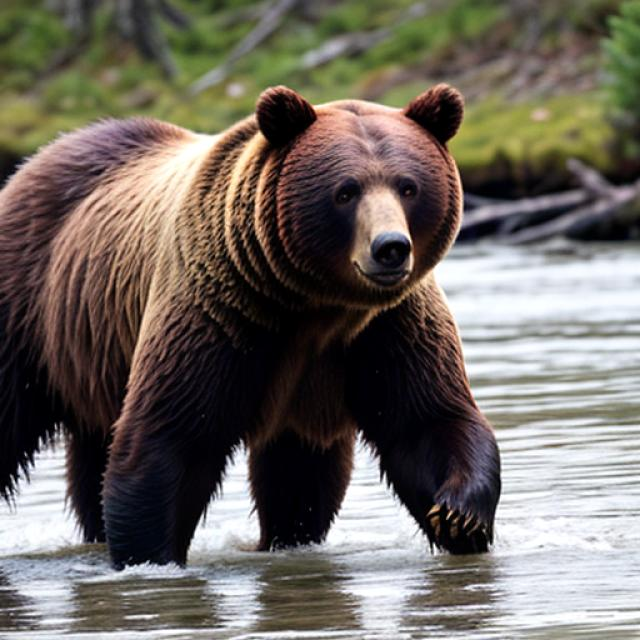bear: (0, 82, 528, 592)
